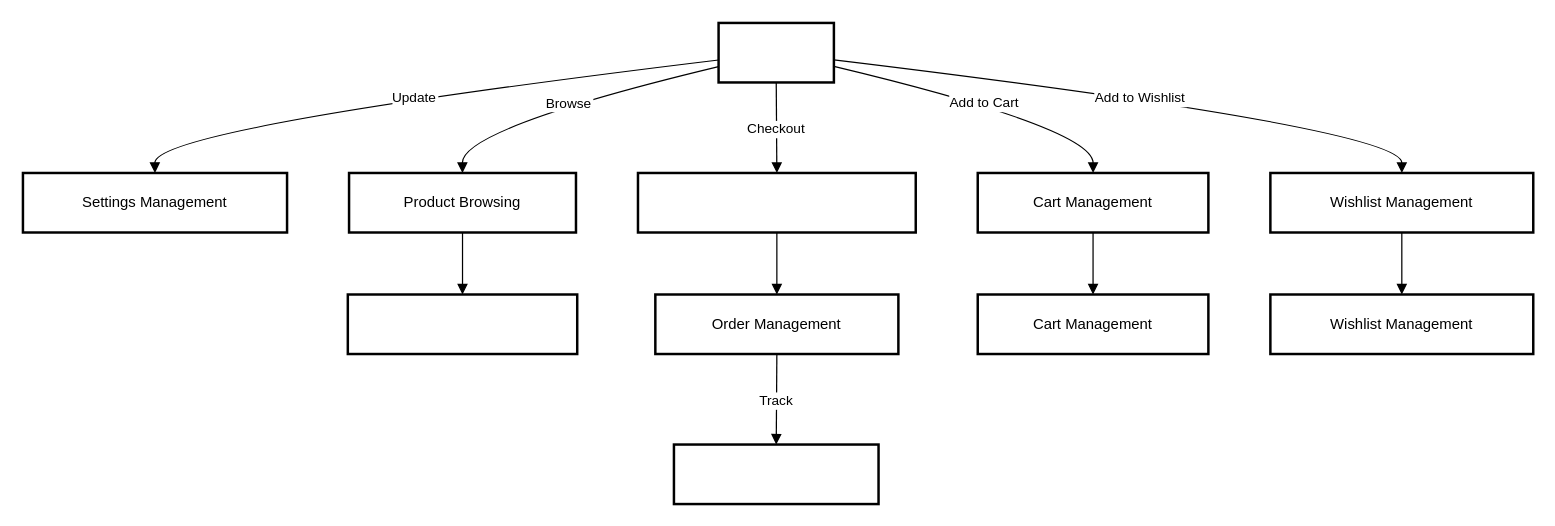
Image size: 1555x526. Some labels were removed from this diagram. The centre of each missing label's shape, as x and y in pixels:
"Checkout and Payment" goes at (776,202).
"Order Tracking" goes at (775,474).
"Product Database" goes at (462,324).
"User" goes at (776,52).
